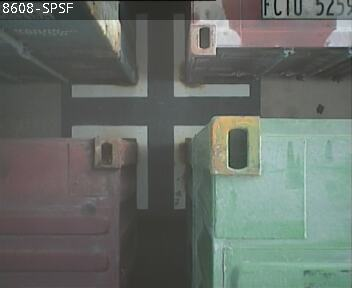groundmarker_1: (70, 14, 249, 97), (71, 125, 203, 208)
